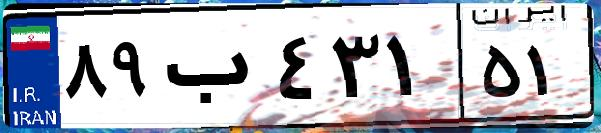1: (385, 28, 445, 110), (525, 38, 570, 115)
3: (330, 28, 385, 110)
4: (270, 28, 330, 110)
5: (475, 38, 525, 113)
8: (57, 26, 110, 100)
9: (110, 28, 158, 98)
ب: (158, 20, 270, 120)
